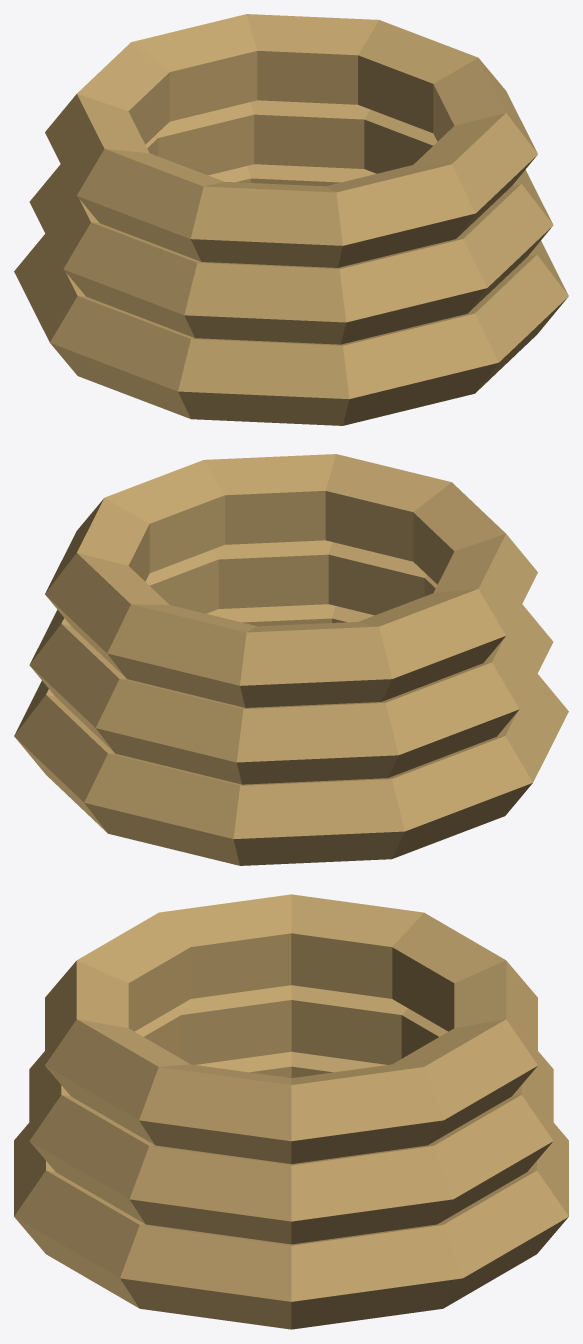
Rendered from rope_coil.glb.
3 views of the same model, one above another, from view 1: azimuth 30°, elevation 25°; view 2: azimuth 150°, elevation 25°; view 3: azimuth 270°, elevation 25° (orthographic). The views are drawn at different scales.
Visible parts, largest first — view 1: rope_coil; view 2: rope_coil; view 3: rope_coil.
Part boxes in pixels (x1,y1,x2,y2): rope_coil: (14, 14, 568, 425); rope_coil: (14, 454, 568, 865); rope_coil: (14, 894, 568, 1329).
Size of the model in its own units: 0.36 by 0.1571 by 0.3424.
